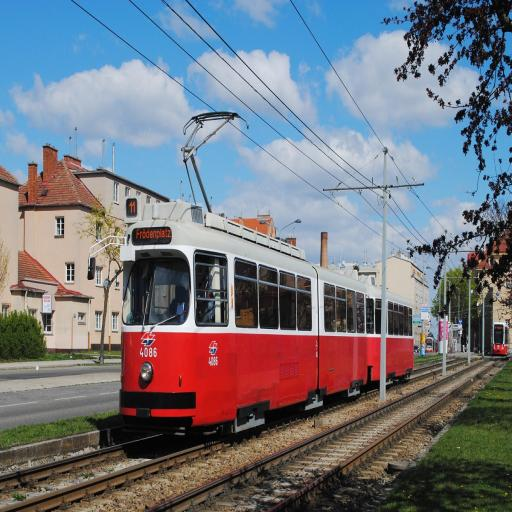E2-Tram: (117, 194, 413, 422)
